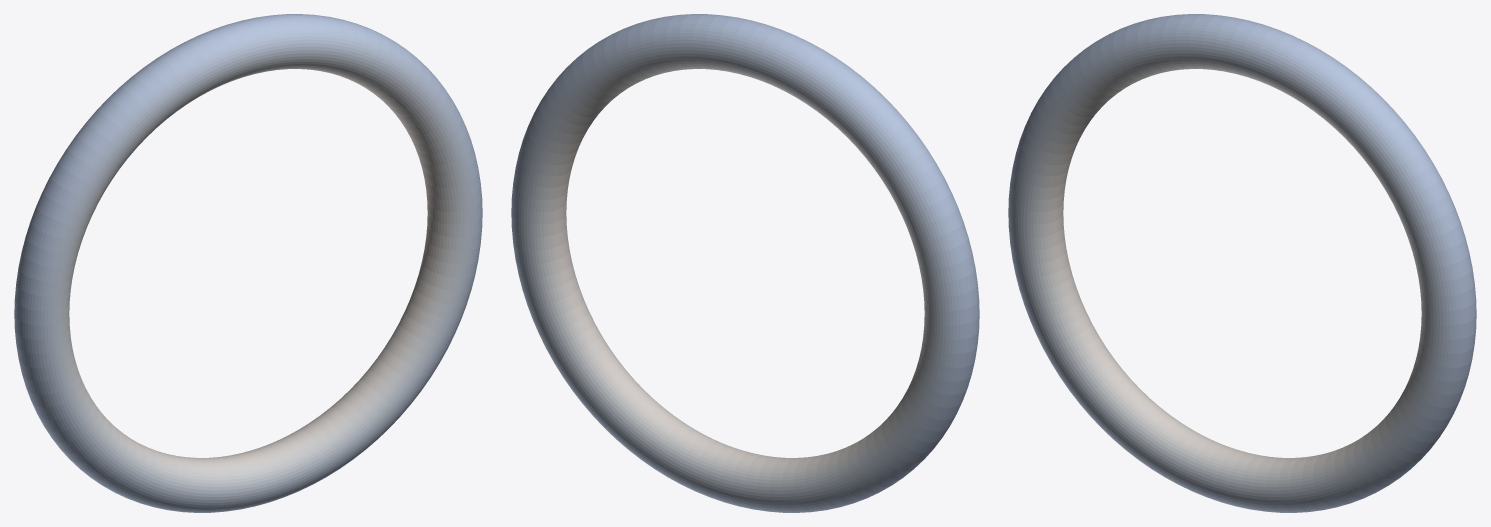
3 views of the same model, side by side, from view 1: azimuth 30°, elevation 25°; view 2: azimuth 150°, elevation 25°; view 3: azimuth 330°, elevation 25° (orthographic).
Parts seen in each view (by area): view 1: world; view 2: world; view 3: world.
Part boxes in pixels (box(x1,y1,x2,y2)): world: box(14, 14, 482, 512); world: box(511, 14, 979, 512); world: box(1008, 14, 1476, 512).
Size of the model in its own units: 19.33 by 19.33 by 2.
